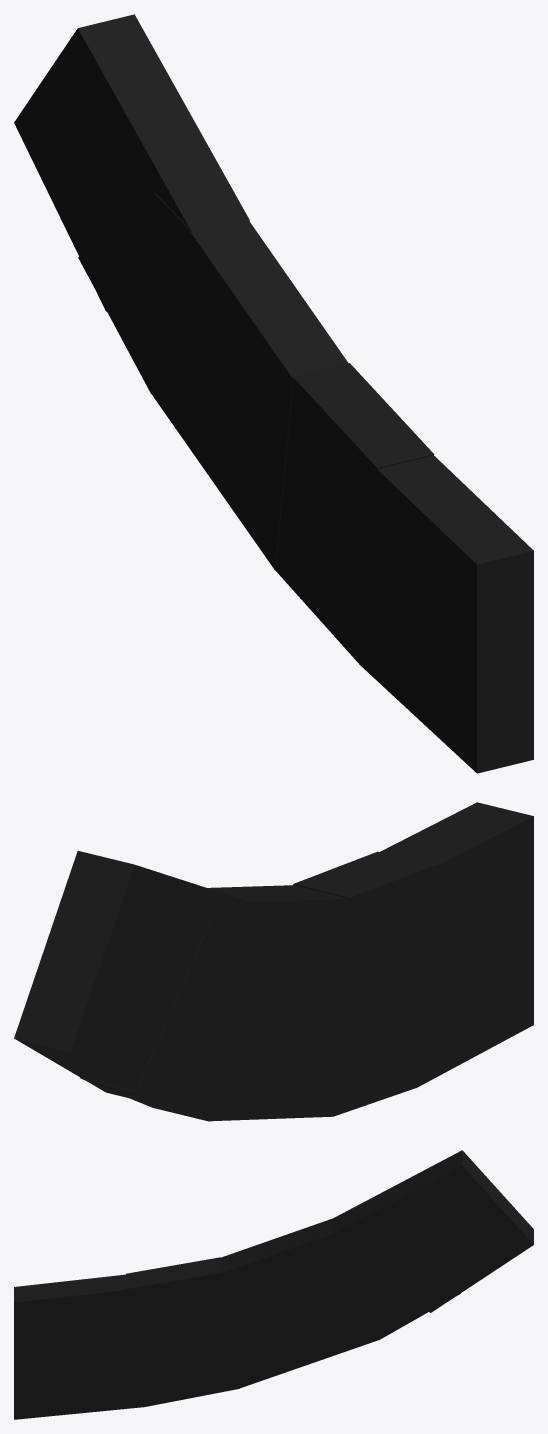
The model's file is GalilMagAttach.fbx.
3 renders of one model, top to bottom at view 1: azimuth 30°, elevation 25°; view 2: azimuth 150°, elevation 25°; view 3: azimuth 270°, elevation 25°, orthographic. The views are drawn at different scales.
Visible parts, largest first — view 1: node_01ad04d0_9ae3_4723_a41a_f70a8fdbbab7_mesh0; view 2: node_01ad04d0_9ae3_4723_a41a_f70a8fdbbab7_mesh0; view 3: node_01ad04d0_9ae3_4723_a41a_f70a8fdbbab7_mesh0.
Boxes of the visible parts, x1,y1,x2,y2 form: node_01ad04d0_9ae3_4723_a41a_f70a8fdbbab7_mesh0: (14,14,533,773); node_01ad04d0_9ae3_4723_a41a_f70a8fdbbab7_mesh0: (14,802,533,1121); node_01ad04d0_9ae3_4723_a41a_f70a8fdbbab7_mesh0: (14,1150,533,1419).
Size of the model in its own units: 0.0105 by 0.0788 by 0.146.
